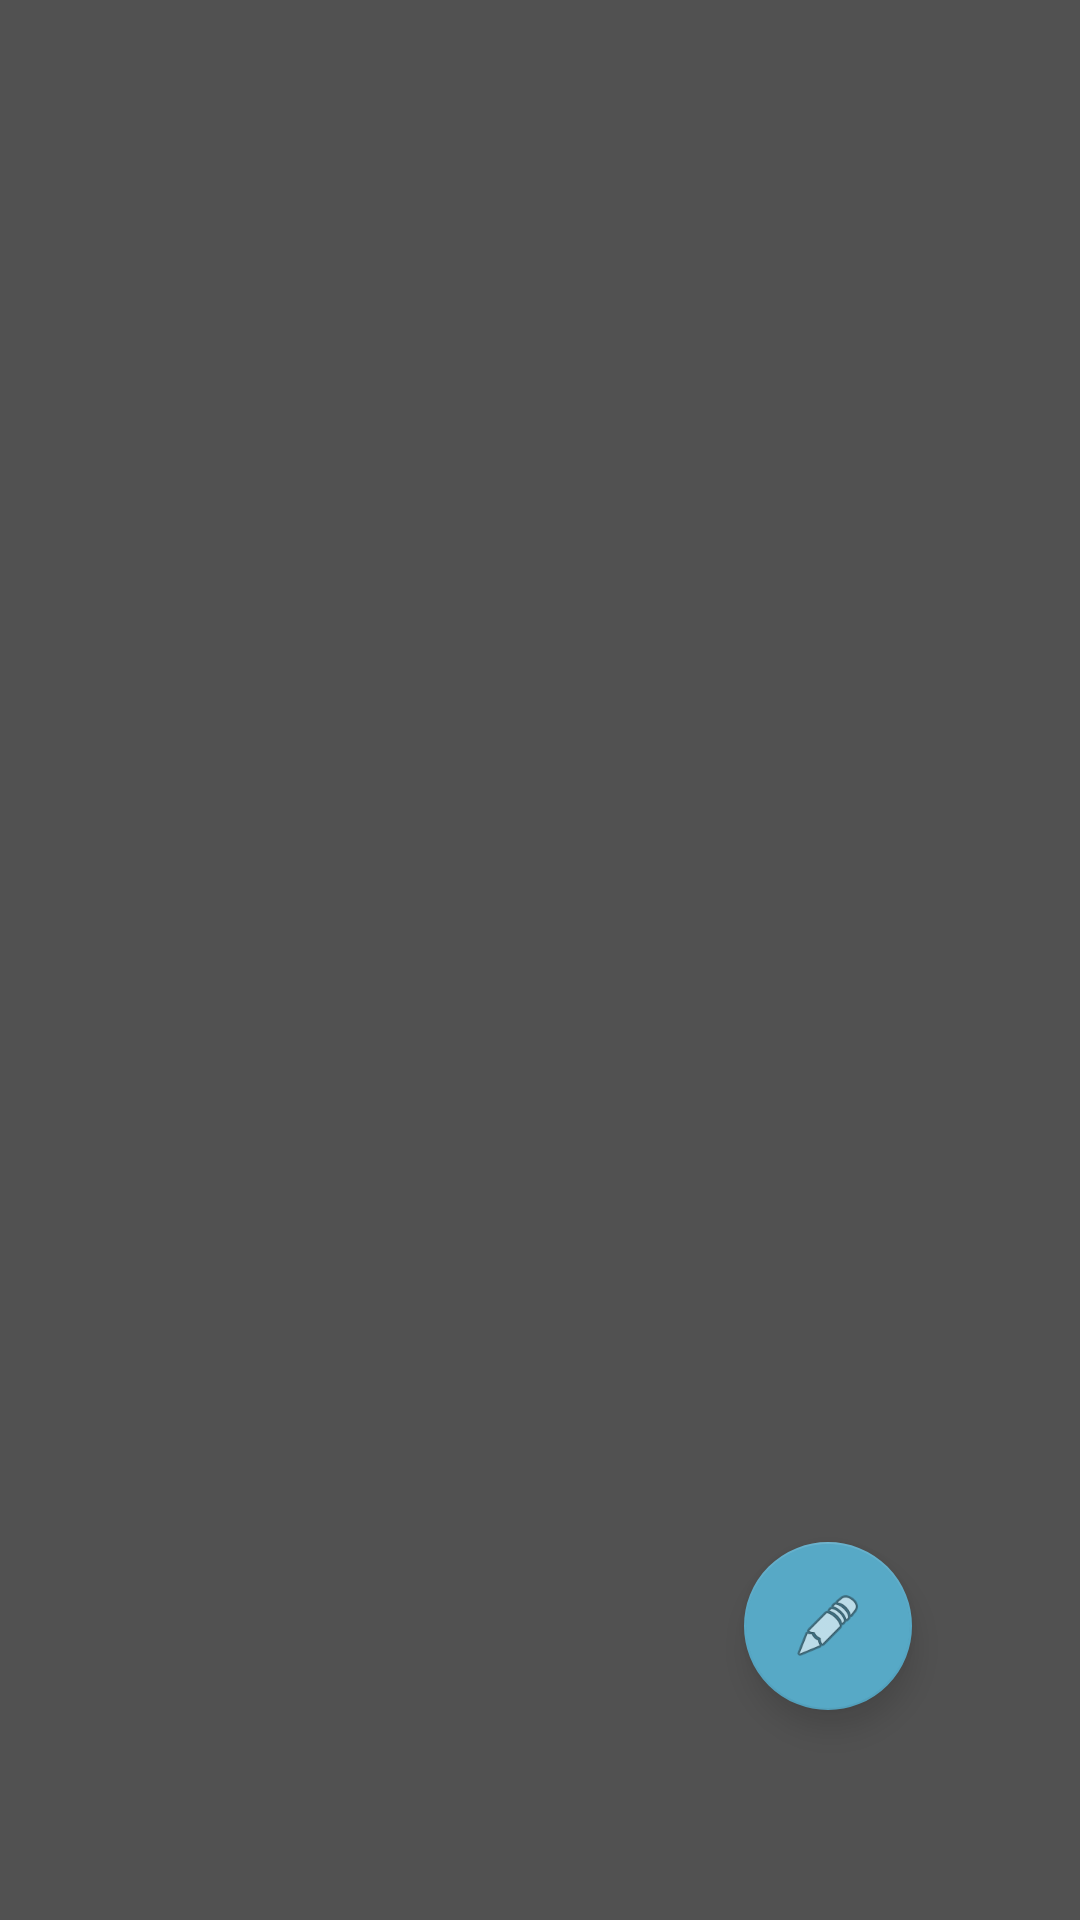

Screen size 1080x1920. Icon name, then its box in pixels as (x1, y1, x2, y2):
edit: (744, 1542, 912, 1710)
